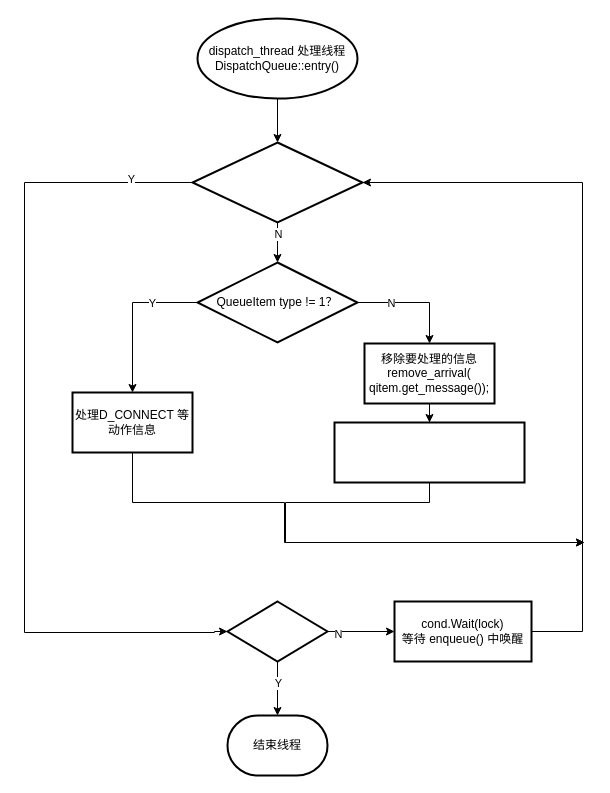
Some shapes in this 610 by 793 pixel diagram are drawn without their labels. The shapes that lost their labels are listed below. From the top down, each one's centre as x and y in pixels, then its label:
At [277,182]: "mqueue 队列是否为空".
At [429,452]: "1. 获取 占用流控资源信息 2. msgr->ms_deliver_dispatch(m); 3. 释放资源回流控".
At [277,631]: "stop == true?".
